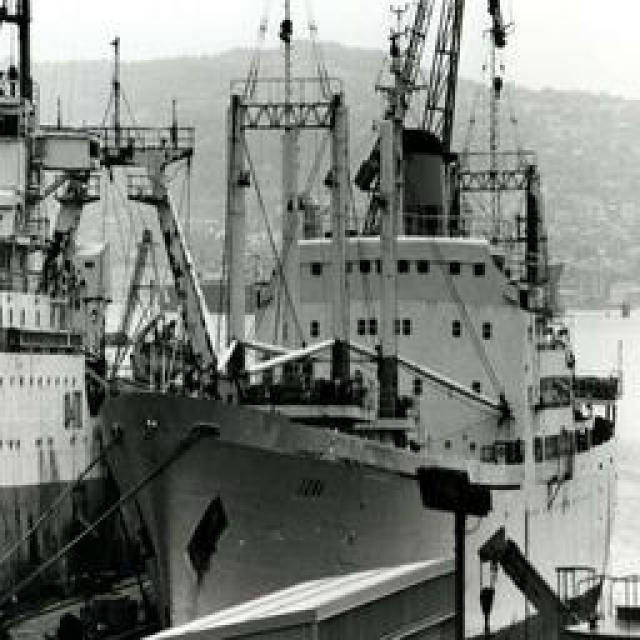Ship: (54, 9, 629, 638)
